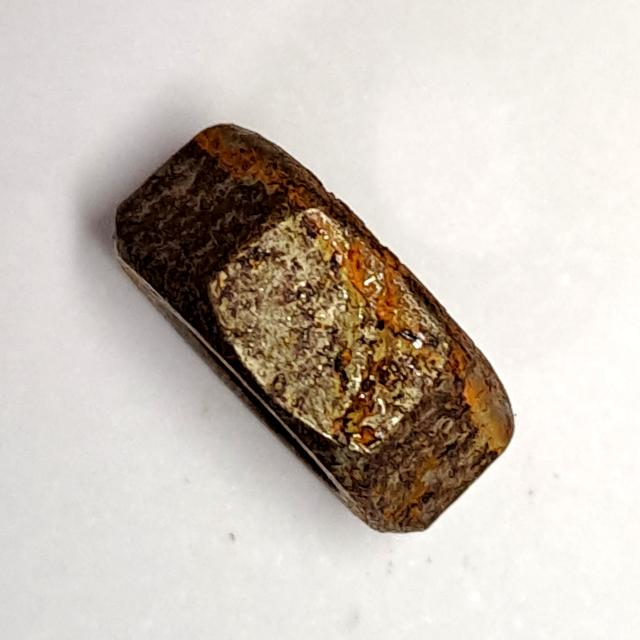Side_Rust: (102, 113, 525, 543)
